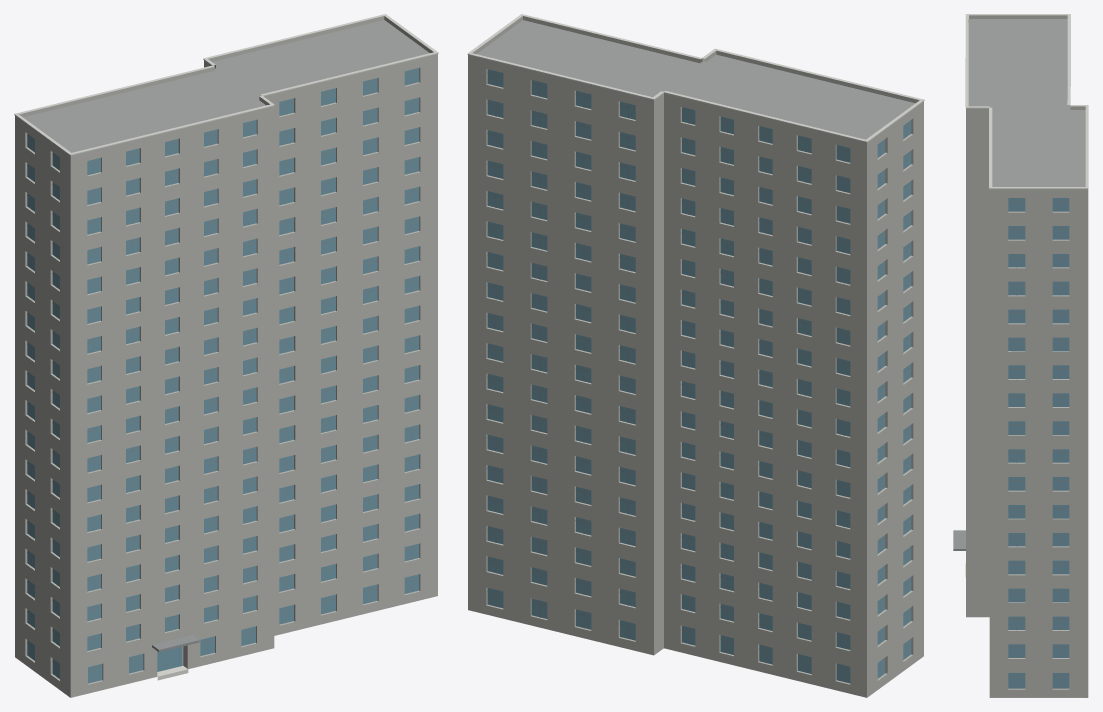
The picture shows the model from 3 angles, left to right: view 1: azimuth 30°, elevation 25°; view 2: azimuth 150°, elevation 25°; view 3: azimuth 270°, elevation 25°; orthographic projection. The views are drawn at different scales.
Visible parts, largest first — view 1: unist-batch-b403__parapet, b403__glass, b403__frame, b403__trim; view 2: unist-batch-b403__parapet, b403__glass, b403__frame, b403__trim; view 3: unist-batch-b403__parapet, b403__glass, b403__trim, b403__frame, b403__canopy.
Boxes of the visible parts, box(x1,y1,x2,y2) form: unist-batch-b403__parapet: box(15, 16, 437, 697); b403__glass: box(27, 68, 419, 683); b403__frame: box(27, 69, 419, 681); b403__trim: box(14, 14, 438, 155); unist-batch-b403__parapet: box(468, 16, 923, 697); b403__glass: box(487, 69, 911, 683); b403__frame: box(487, 71, 911, 681); b403__trim: box(467, 14, 924, 142); unist-batch-b403__parapet: box(966, 15, 1088, 697); b403__glass: box(1008, 198, 1069, 688); b403__trim: box(965, 14, 1088, 189); b403__frame: box(1008, 198, 1069, 688); b403__canopy: box(953, 530, 965, 550).
Bounding box in the file's own units: 44.94 × 61.6 × 14.76.
